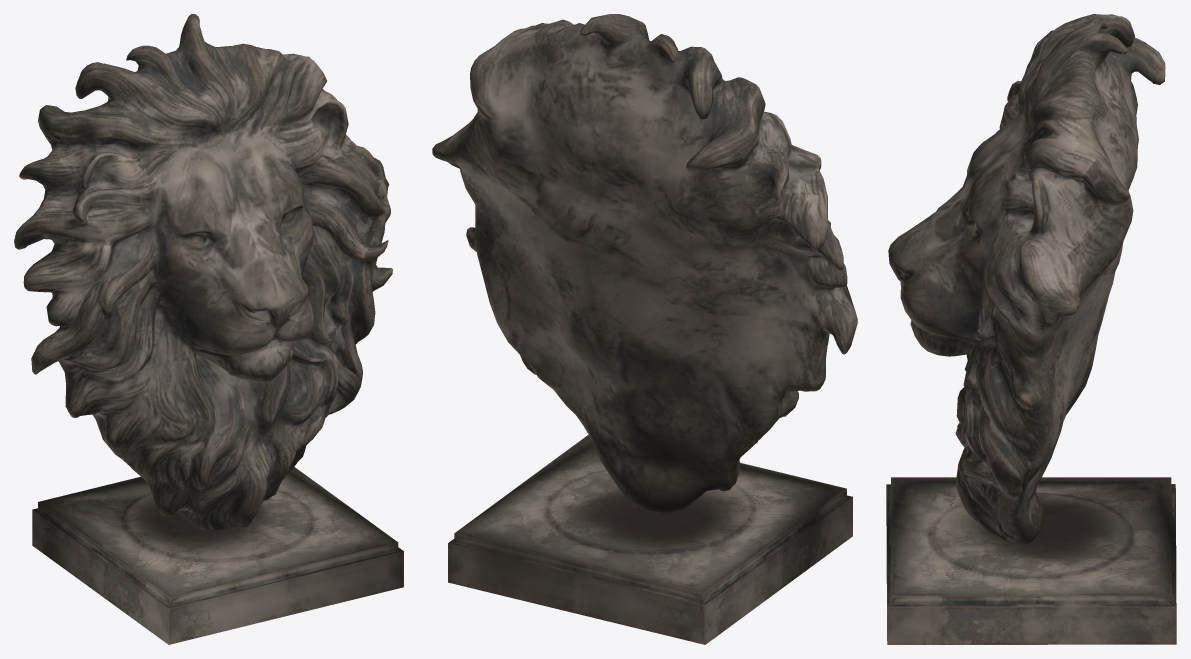
The model's file is lion_head.glb.
3 renders of one model, left to right at view 1: azimuth 30°, elevation 25°; view 2: azimuth 150°, elevation 25°; view 3: azimuth 270°, elevation 25°, orthographic. The views are drawn at different scales.
Visible parts, largest first — view 1: lion_head; view 2: lion_head; view 3: lion_head.
Boxes of the visible parts, left/top/right/bottom form: lion_head: left=14, top=14, right=403, bottom=644; lion_head: left=432, top=14, right=857, bottom=644; lion_head: left=886, top=14, right=1176, bottom=644.
Size of the model in its own units: 0.3208 by 0.4358 by 0.2066.
1 material, 1 textured.
